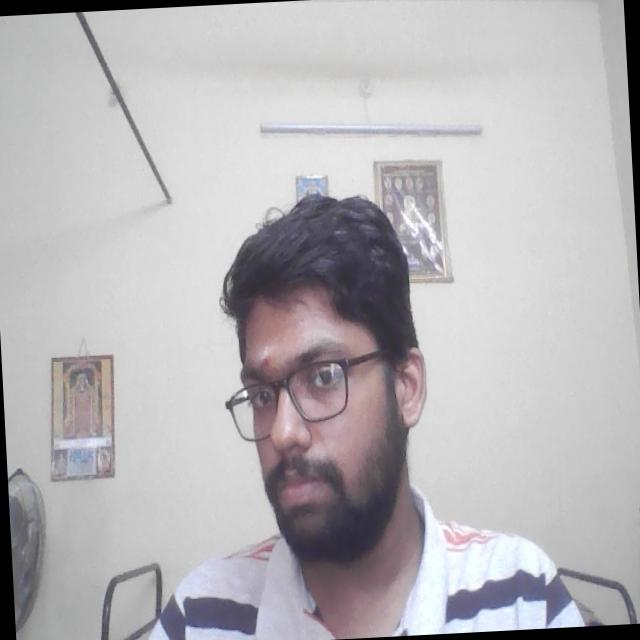Focused: (222, 280, 422, 542)
